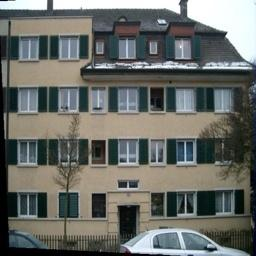building: (0, 5, 256, 254)
